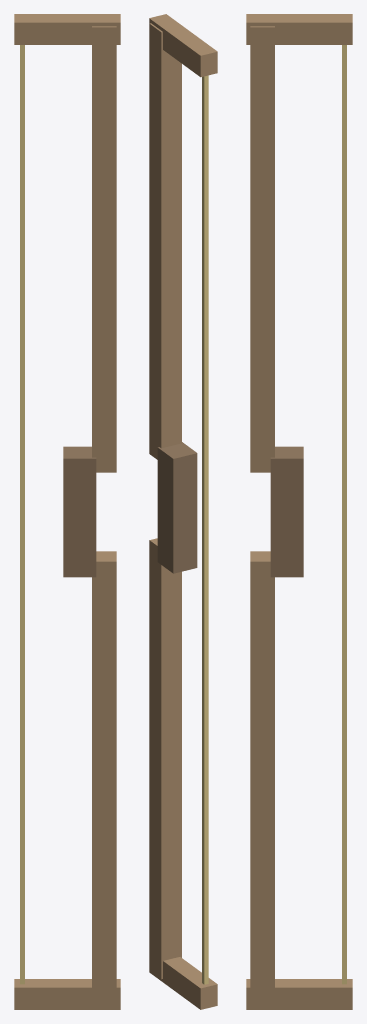
File: bow.glb
3 renders of one model, left to right at view 1: azimuth 90°, elevation 25°; view 2: azimuth 210°, elevation 25°; view 3: azimuth 270°, elevation 25°, orthographic. The views are drawn at different scales.
Parts seen in each view (by area): view 1: Bow; view 2: Bow; view 3: Bow.
Part boxes in pixels (box(x1,y1,x2,y2)): Bow: box(14, 14, 120, 1009); Bow: box(149, 14, 217, 1009); Bow: box(246, 14, 352, 1009).
Size of the model in its own units: 0.035 by 1.33 by 0.13.
